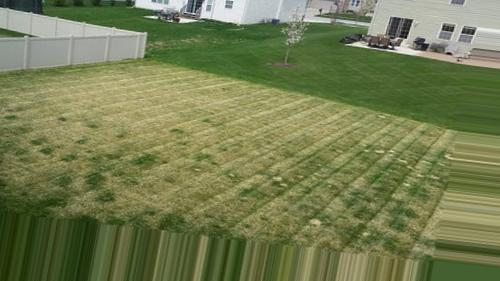patch: (70, 81, 232, 219), (307, 112, 373, 244), (236, 98, 297, 238), (8, 85, 64, 207), (376, 129, 423, 249)
